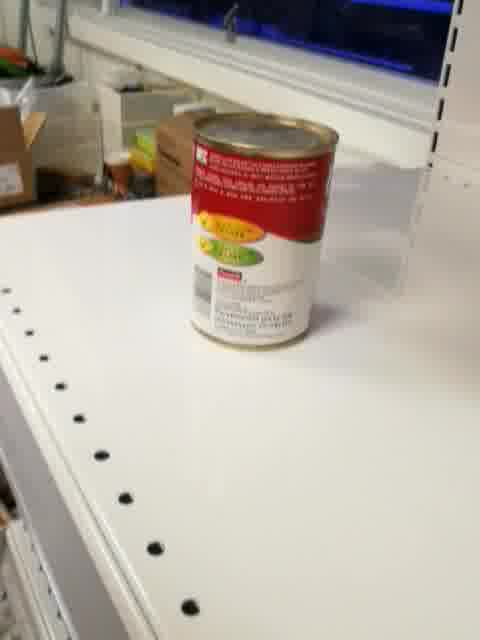tomatosoup: (188, 111, 339, 354)
